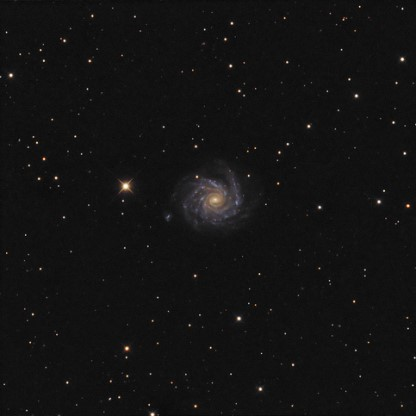NGC 1232: (163, 157, 257, 245)
